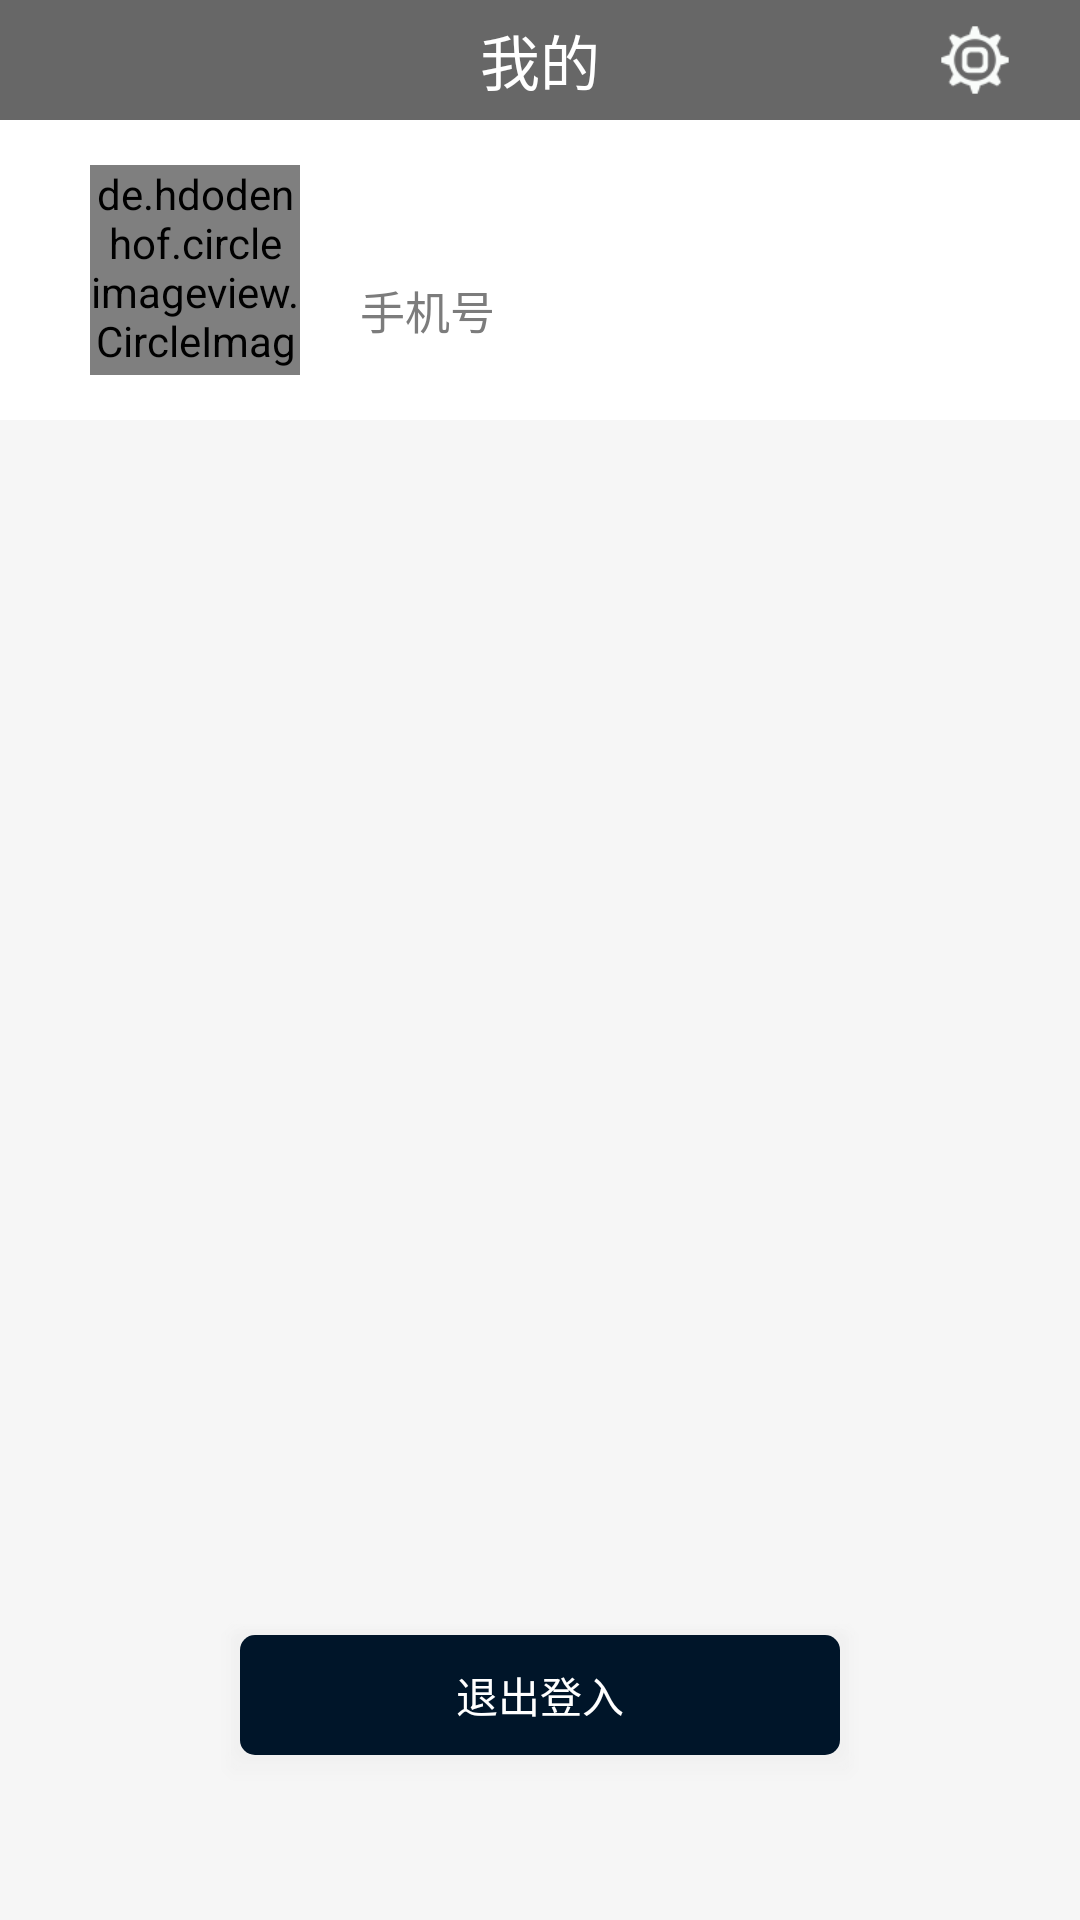

Named icons in this screenshot (1080px x 1920px) and their bounding boxes, (x1, y1, x2, y2):
setting: (941, 26, 1009, 94)
